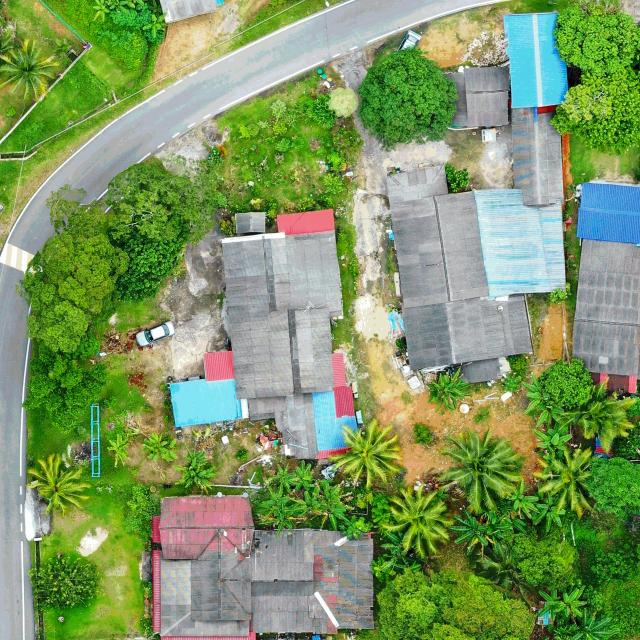Tree: (17, 231, 131, 353), (375, 565, 536, 640), (356, 45, 458, 152), (106, 155, 227, 245), (547, 71, 640, 157), (435, 426, 521, 516), (21, 356, 109, 436), (108, 224, 192, 302), (553, 2, 640, 73), (380, 483, 453, 560), (324, 418, 401, 490), (531, 444, 600, 518), (25, 452, 92, 518), (580, 380, 637, 453), (0, 36, 63, 102), (27, 556, 100, 609), (590, 454, 640, 518), (540, 356, 594, 413), (171, 441, 218, 496), (447, 505, 497, 555), (522, 373, 565, 428), (312, 479, 354, 532), (427, 370, 471, 412), (568, 605, 615, 640), (530, 491, 565, 532), (546, 584, 588, 618), (506, 478, 540, 520), (141, 430, 179, 463), (538, 588, 571, 622), (103, 434, 133, 468), (266, 462, 299, 492), (141, 12, 172, 38), (0, 26, 16, 76), (294, 460, 315, 492), (92, 0, 109, 22), (104, 0, 128, 14)
